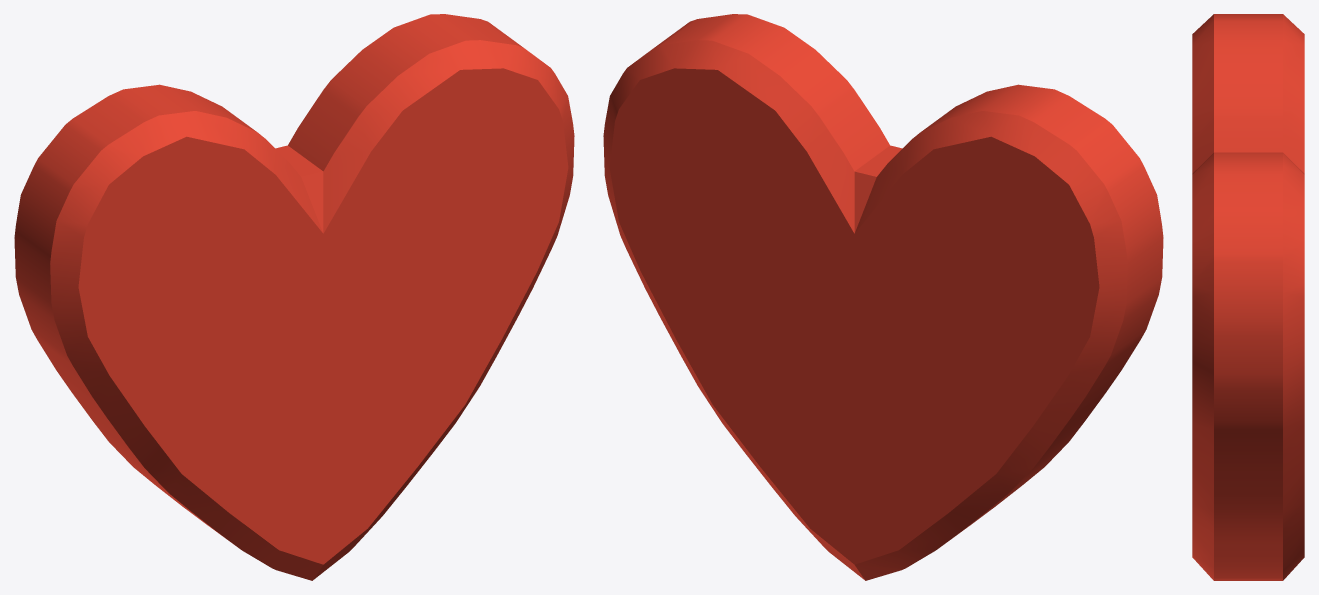
File: Heart.fbx
The picture shows the model from 3 angles, left to right: view 1: azimuth 30°, elevation 25°; view 2: azimuth 150°, elevation 25°; view 3: azimuth 270°, elevation 25°; orthographic projection. The views are drawn at different scales.
Visible parts, largest first — view 1: Plane; view 2: Plane; view 3: Plane.
Boxes of the visible parts, x1,y1,x2,y2 form: Plane: (14, 14, 574, 580); Plane: (603, 14, 1163, 580); Plane: (1192, 14, 1304, 580).
Size of the model in its own units: 184 by 168 by 35.15.
